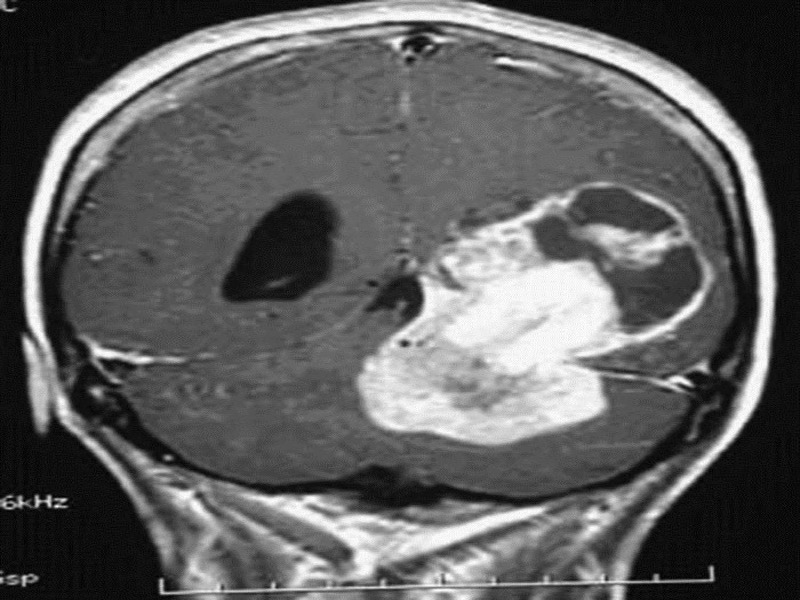tumor: (349, 177, 721, 452)
